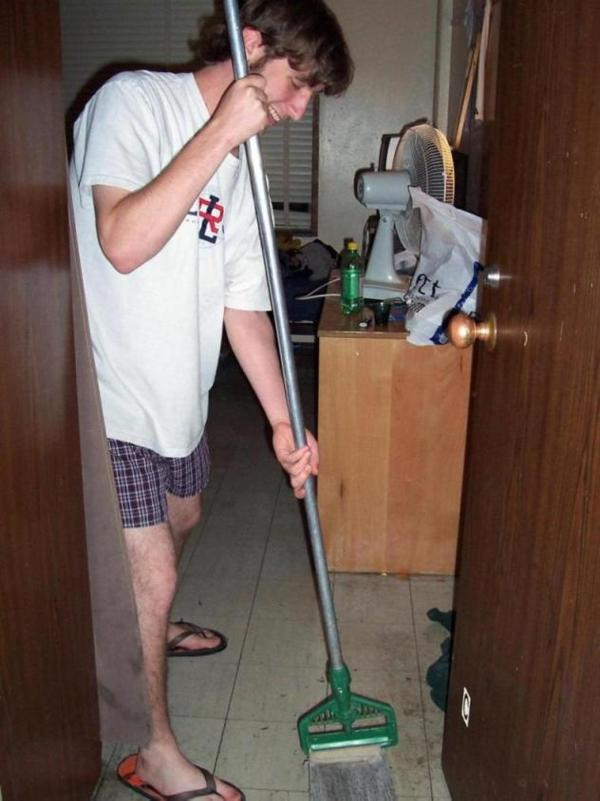person: (67, 4, 352, 801)
